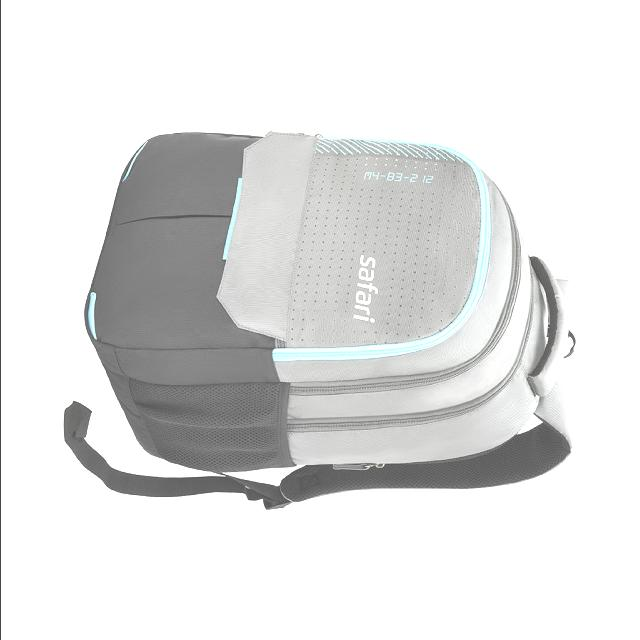backpack: (64, 132, 577, 512)
